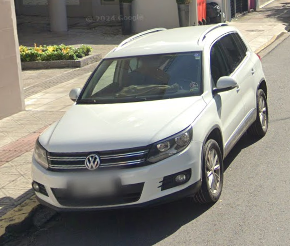car: (32, 22, 271, 204)
